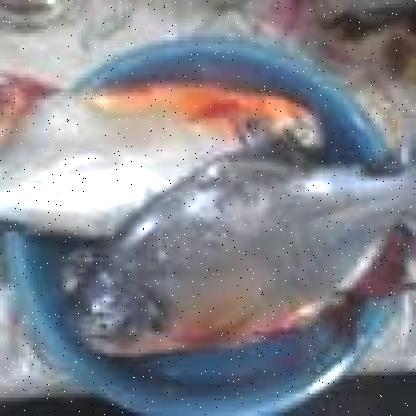ikan-pacu: (79, 140, 415, 358), (0, 64, 306, 219)
